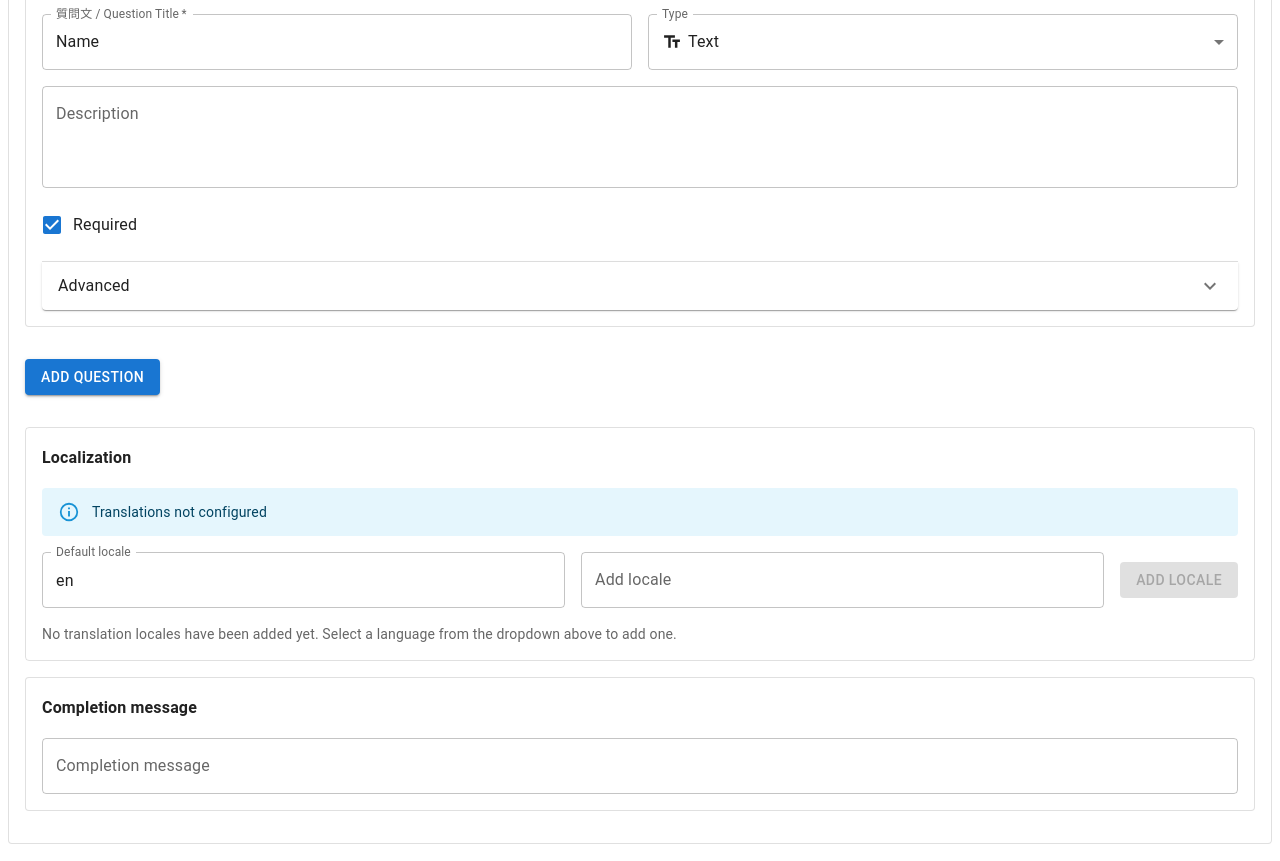
Test: MUI localization UX › renders the standard summary and updates it after adding a locale
The image size is (1280, 861).
(page scrolled)
Expected: the message reads "Translations not configured", left=92, top=504, right=267, bottom=520
Type "fr" into the field labelled "Add locale". click: [843, 580]
box: left=581, top=552, right=1104, bottom=608
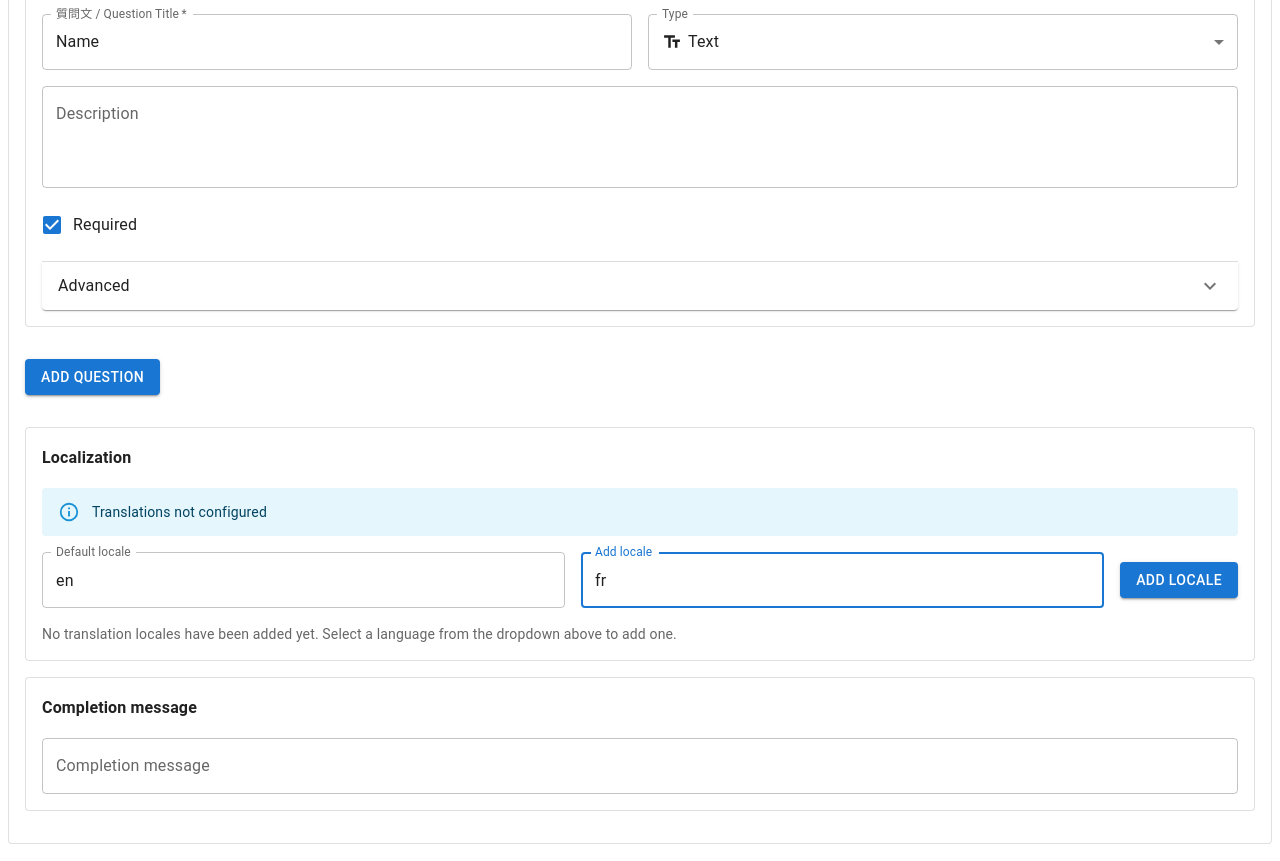
Click the button "Add locale". click: [1179, 580]
box: left=1120, top=562, right=1238, bottom=598
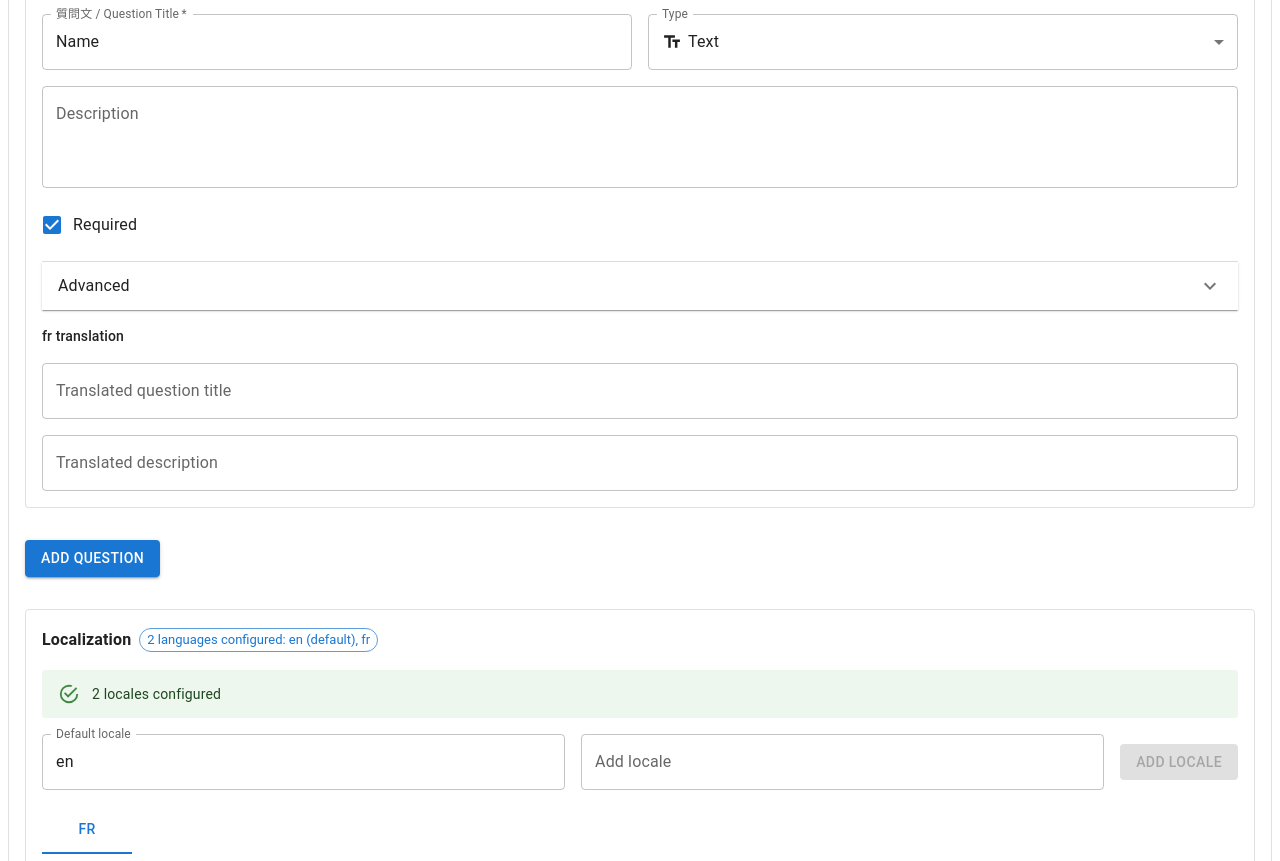
Expected: the message reads "2 locales configured", left=92, top=686, right=221, bottom=702
